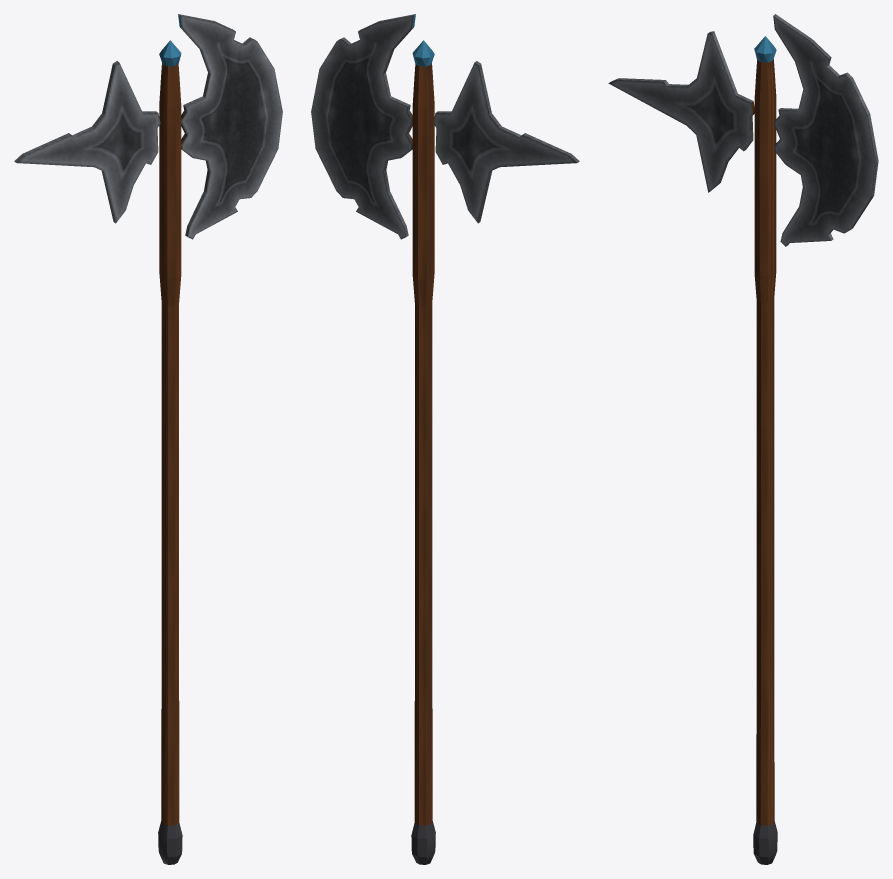
File: mm6_gua_halberd.glb
3 views of the same model, side by side, from view 1: azimuth 30°, elevation 25°; view 2: azimuth 150°, elevation 25°; view 3: azimuth 330°, elevation 25° (orthographic).
Parts seen in each view (by area): view 1: Halberd; view 2: Halberd; view 3: Halberd.
Part boxes in pixels (x1=…): Halberd: x1=14, y1=14, x2=282, y2=864; Halberd: x1=311, y1=14, x2=579, y2=864; Halberd: x1=608, y1=14, x2=878, y2=864.
Size of the model in its own units: 0.4574 by 1.39 by 0.0376.
1 material, 1 textured.
